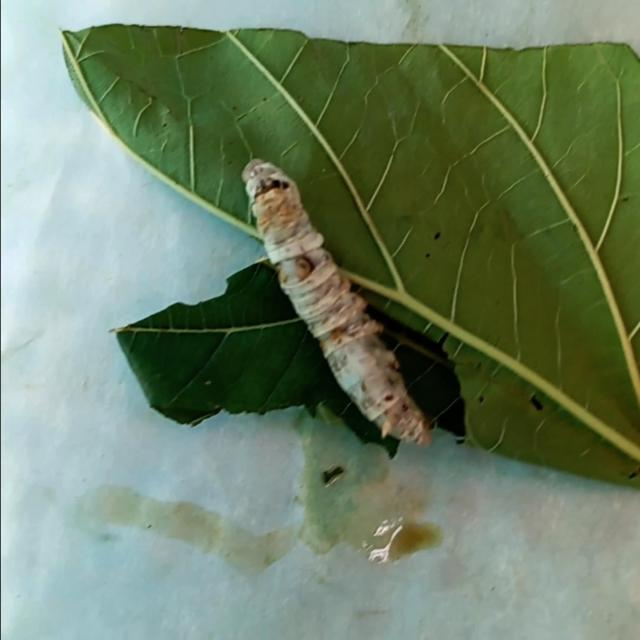Grasserie: (222, 131, 448, 471)
